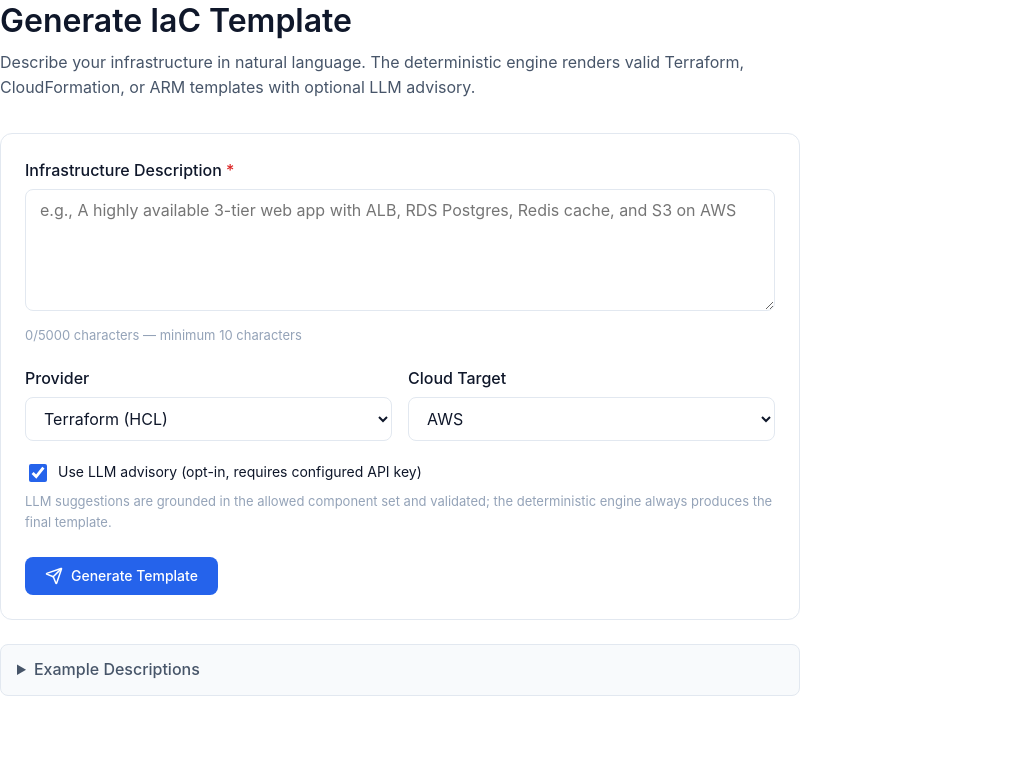
GenerateForm › shows example descriptions
The width and height of the screenshot is (1024, 768).
Expected: the text "Example Descriptions" is shown, [0,644,800,696]
Click the heading "Example Descriptions": (117, 669) [34,659,200,679]
(page scrolled)
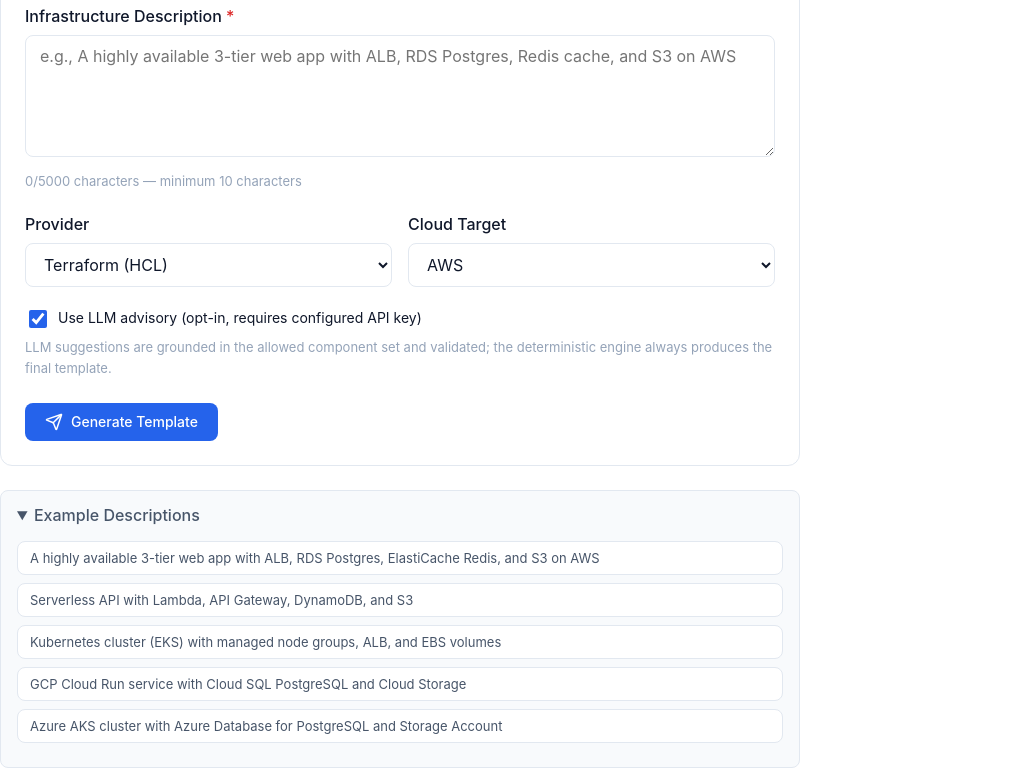
Expected: the button "highly available 3-tier web app" is shown, [17,540,783,574]
Expected: the button "Serverless API with Lambda, API Gateway, DynamoDB, and S3" is shown, [17,582,783,616]
